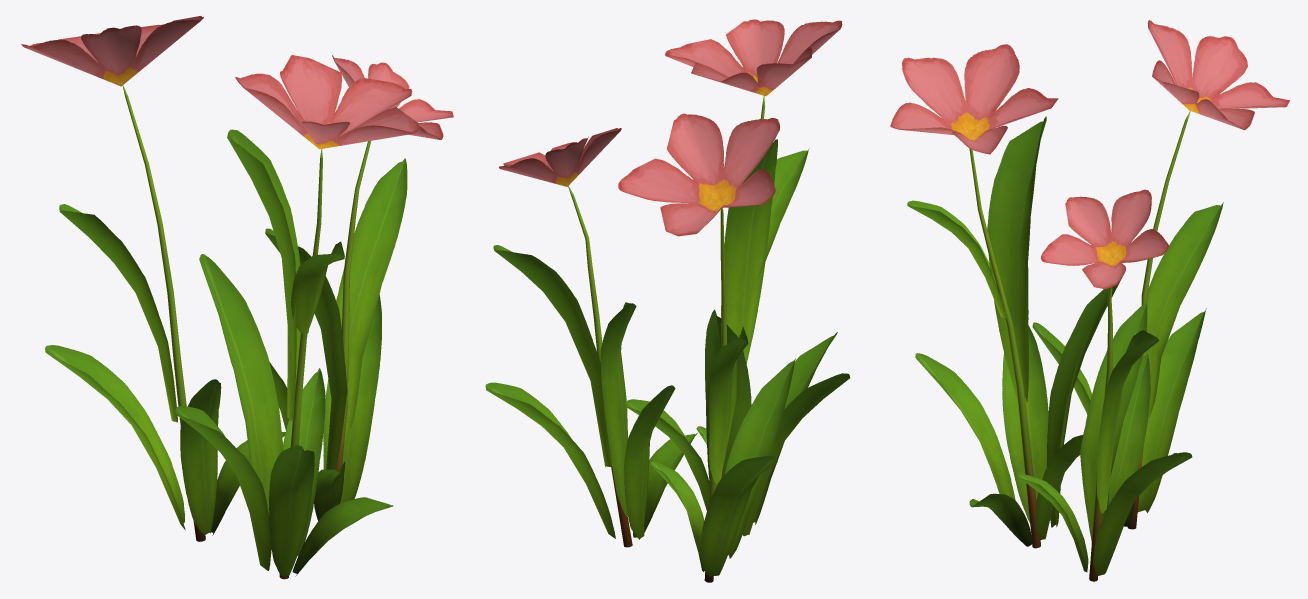
The model's file is Flower_3_Group.gltf.
3 views of the same model, side by side, from view 1: azimuth 30°, elevation 25°; view 2: azimuth 150°, elevation 25°; view 3: azimuth 270°, elevation 25° (orthographic). The views are drawn at different scales.
Parts seen in each view (by area): view 1: Flower_3_Group; view 2: Flower_3_Group; view 3: Flower_3_Group.
Part boxes in pixels (bbox=[...]): Flower_3_Group: bbox=[21, 16, 453, 579]; Flower_3_Group: bbox=[485, 19, 850, 582]; Flower_3_Group: bbox=[890, 20, 1289, 581].
Bounding box in the file's own units: 1.49 × 2.05 × 1.59.
Materials: 2 (2 with a texture image).
